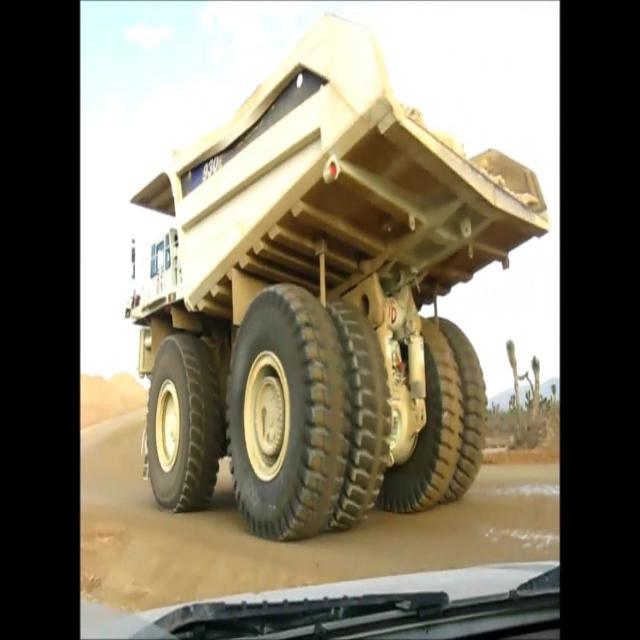dump_truck: (112, 8, 554, 541)
